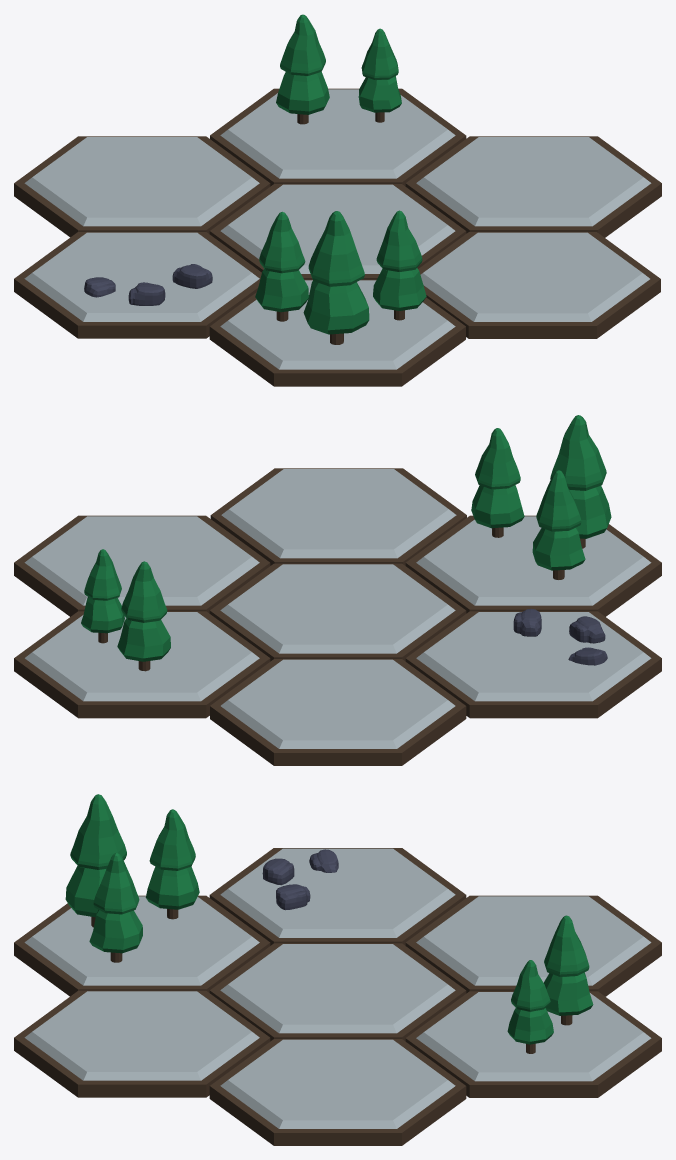
Rendered from SnowScene-v3.gltf.
3 views of the same model, one above another, from view 1: azimuth 30°, elevation 25°; view 2: azimuth 150°, elevation 25°; view 3: azimuth 270°, elevation 25° (orthographic).
Visible parts, largest first — view 1: hexagon.004, hexagon.006, hexagon.001, hexagon.005, hexagon.003, hexagon.002, hexagon, Tree, Tree.001, Tree.004, Tree.002, Tree.005 (+2 smaller); view 2: hexagon.001, hexagon.005, hexagon, hexagon.004, hexagon.003, hexagon.006, hexagon.002, Tree, Tree.004, Tree.002, Tree.001, Tree.005 (+3 smaller); view 3: hexagon.006, hexagon.004, hexagon, hexagon.003, hexagon.005, hexagon.001, hexagon.002, Tree, Tree.001, Tree.002, Tree.004, Tree.005 (+3 smaller).
Part boxes in pixels (x1=…): hexagon.004: x1=418, y1=232, x2=660, y2=338; hexagon.006: x1=405, y1=136, x2=661, y2=237; hexagon.001: x1=14, y1=136, x2=270, y2=237; hexagon.005: x1=14, y1=232, x2=261, y2=338; hexagon.003: x1=210, y1=88, x2=466, y2=186; hexagon.002: x1=209, y1=279, x2=465, y2=386; hexagon: x1=209, y1=184, x2=466, y2=279; Tree: x1=303, y1=211, x2=369, y2=344; Tree.001: x1=255, y1=211, x2=308, y2=321; Tree.004: x1=276, y1=14, x2=329, y2=124; Tree.002: x1=373, y1=210, x2=426, y2=320; Tree.005: x1=358, y1=28, x2=401, y2=122; hexagon.001: x1=210, y1=659, x2=466, y2=765; hexagon.005: x1=405, y1=611, x2=661, y2=718; hexagon: x1=209, y1=563, x2=466, y2=661; hexagon.004: x1=210, y1=468, x2=466, y2=565; hexagon.003: x1=14, y1=611, x2=270, y2=718; hexagon.006: x1=14, y1=515, x2=270, y2=616; hexagon.002: x1=405, y1=515, x2=661, y2=616; Tree: x1=550, y1=415, x2=611, y2=548; Tree.004: x1=117, y1=561, x2=170, y2=671; Tree.002: x1=471, y1=428, x2=524, y2=537; Tree.001: x1=532, y1=470, x2=585, y2=579; Tree.005: x1=81, y1=549, x2=124, y2=643; hexagon.006: x1=209, y1=1039, x2=466, y2=1145; hexagon.004: x1=14, y1=990, x2=270, y2=1097; hexagon: x1=209, y1=943, x2=466, y2=1041; hexagon.003: x1=405, y1=991, x2=661, y2=1097; hexagon.005: x1=209, y1=848, x2=466, y2=945; hexagon.001: x1=405, y1=895, x2=661, y2=996; hexagon.002: x1=14, y1=895, x2=270, y2=996; Tree: x1=65, y1=794, x2=126, y2=927; Tree.001: x1=145, y1=809, x2=199, y2=919; Tree.002: x1=89, y1=853, x2=142, y2=962; Tree.004: x1=544, y1=915, x2=593, y2=1025; Tree.005: x1=507, y1=960, x2=553, y2=1053.
Size of the model in its own units: 27.73 by 6.82 by 26.64.
